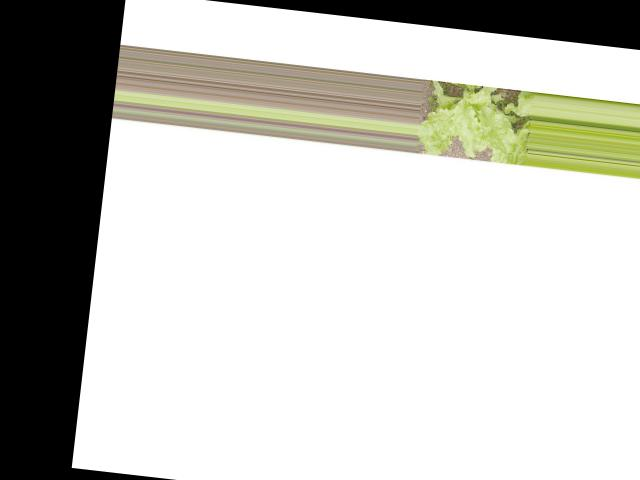lettuce: (417, 74, 535, 162)
